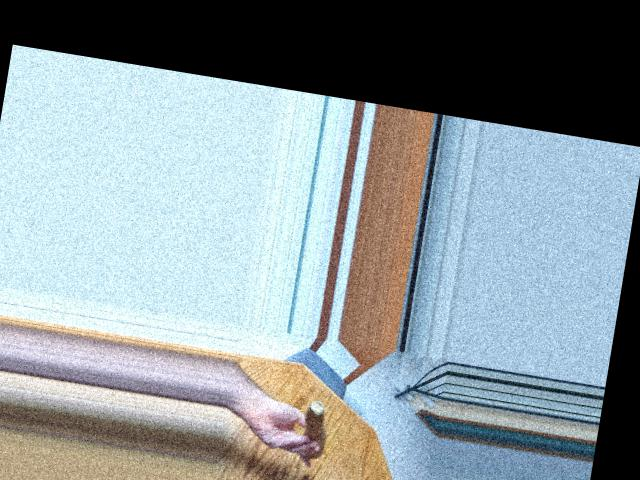sweet_potato: (297, 408, 330, 457)
